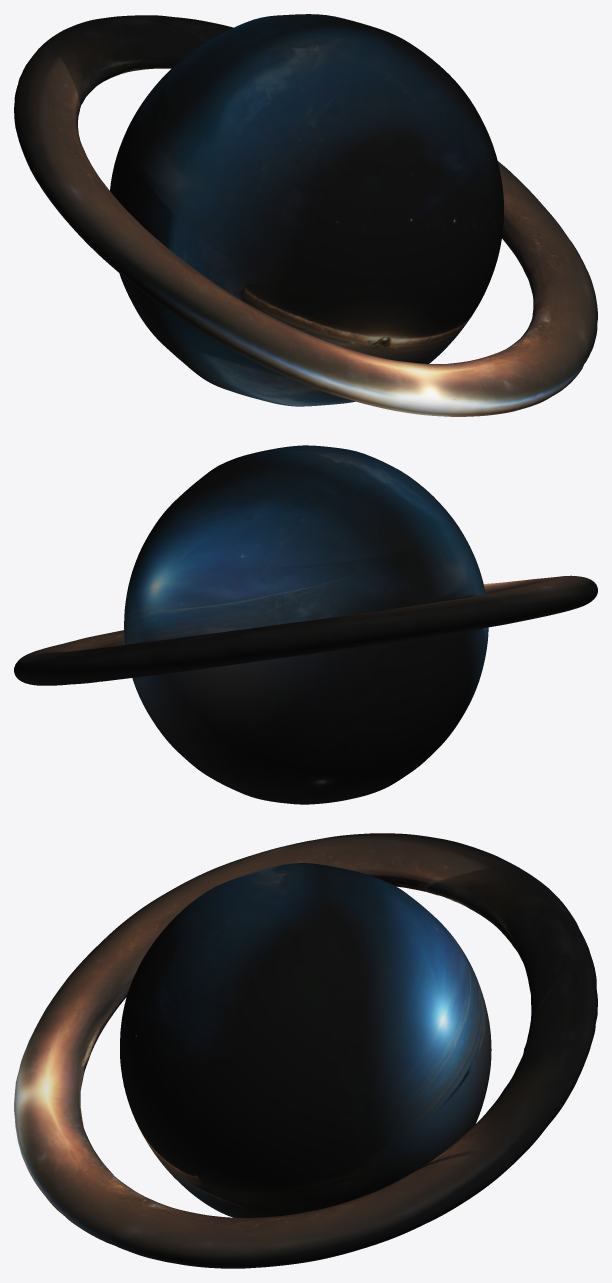
Rendered from planete.glb.
3 renders of one model, top to bottom at view 1: azimuth 30°, elevation 25°; view 2: azimuth 150°, elevation 25°; view 3: azimuth 270°, elevation 25°, orthographic. The views are drawn at different scales.
Bounding box in the file's own units: 1.95 × 1.26 × 2.
1 material, 1 textured.
